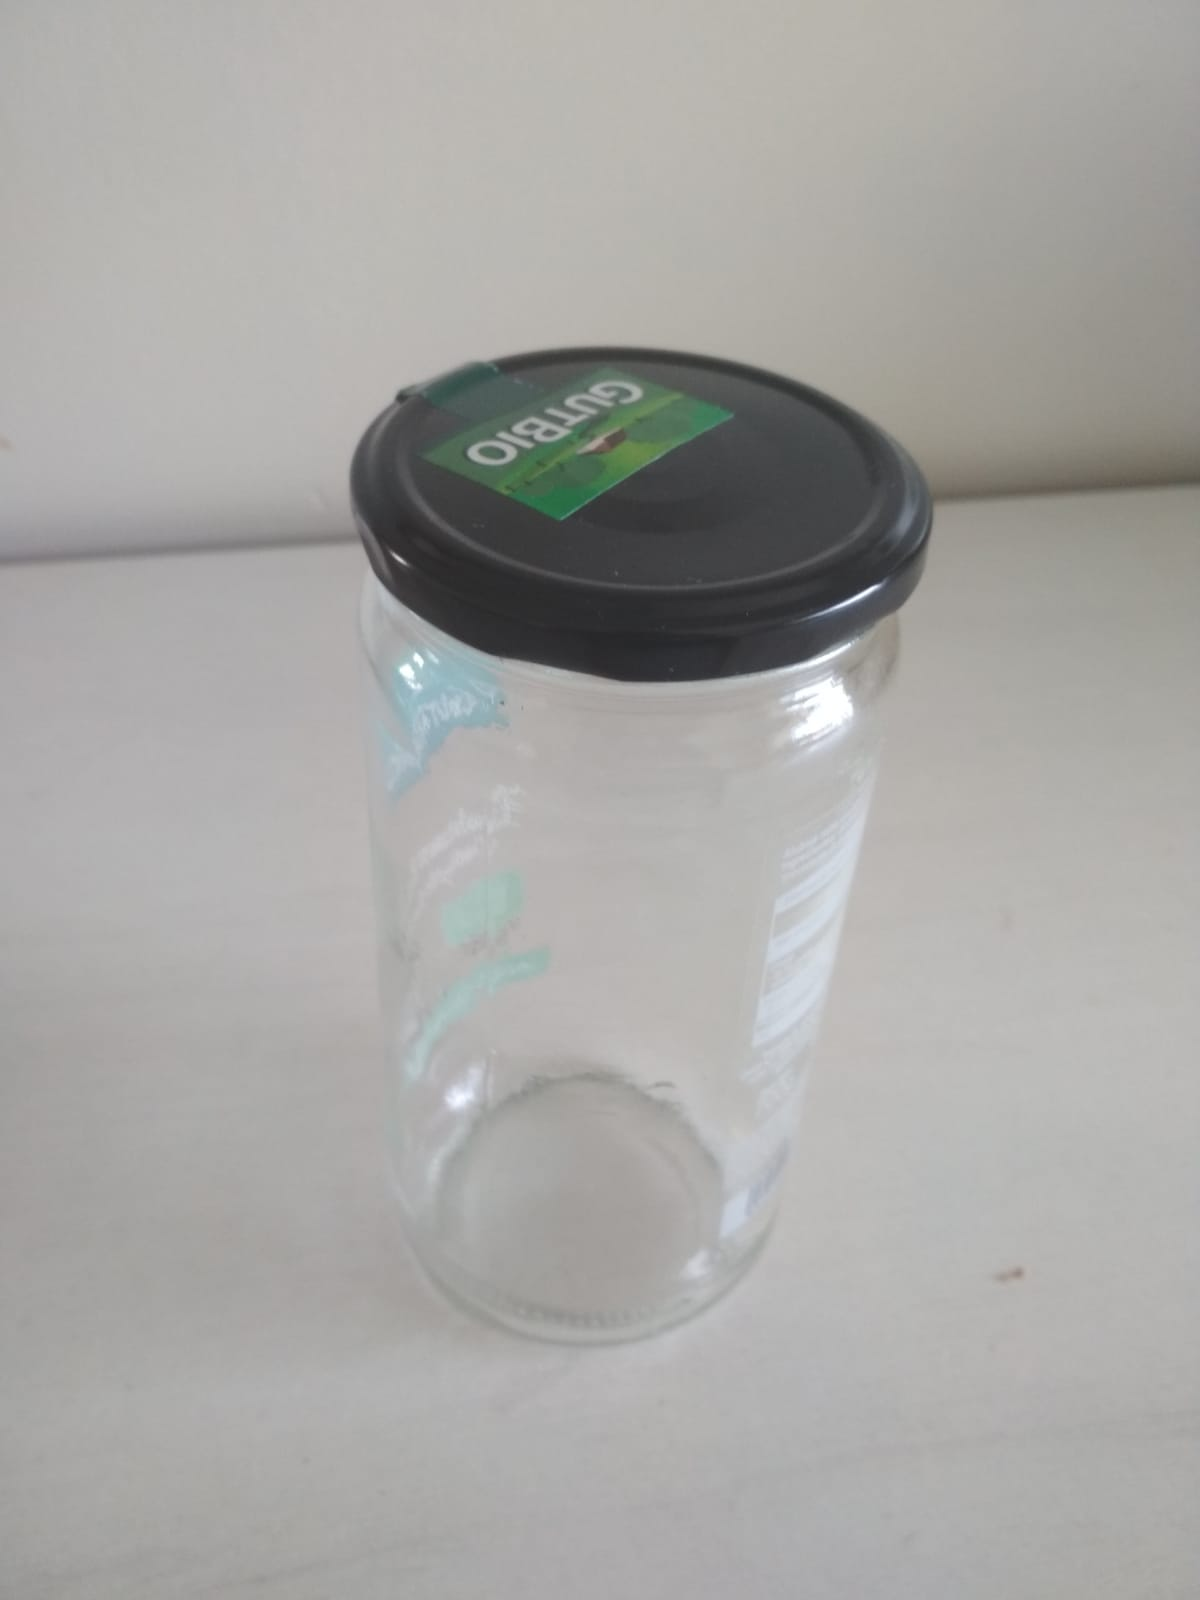pote cristal: (342, 341, 938, 1380)
